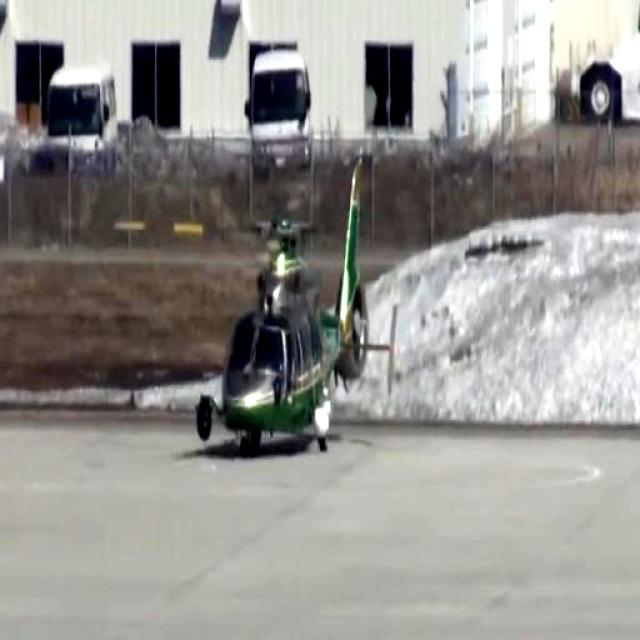drone: (191, 166, 398, 469)
